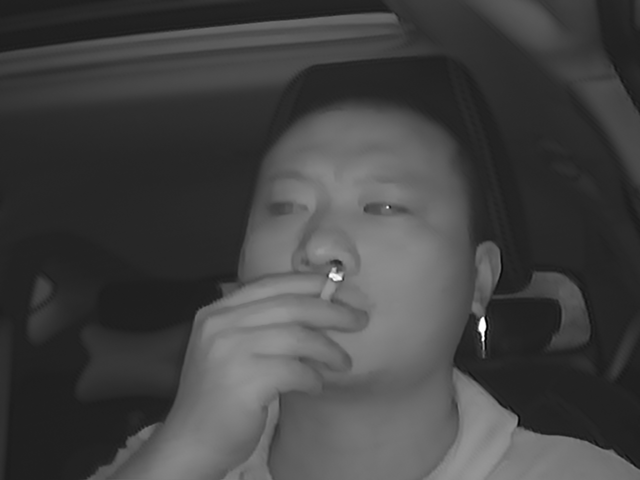hand: (212, 264, 358, 408)
